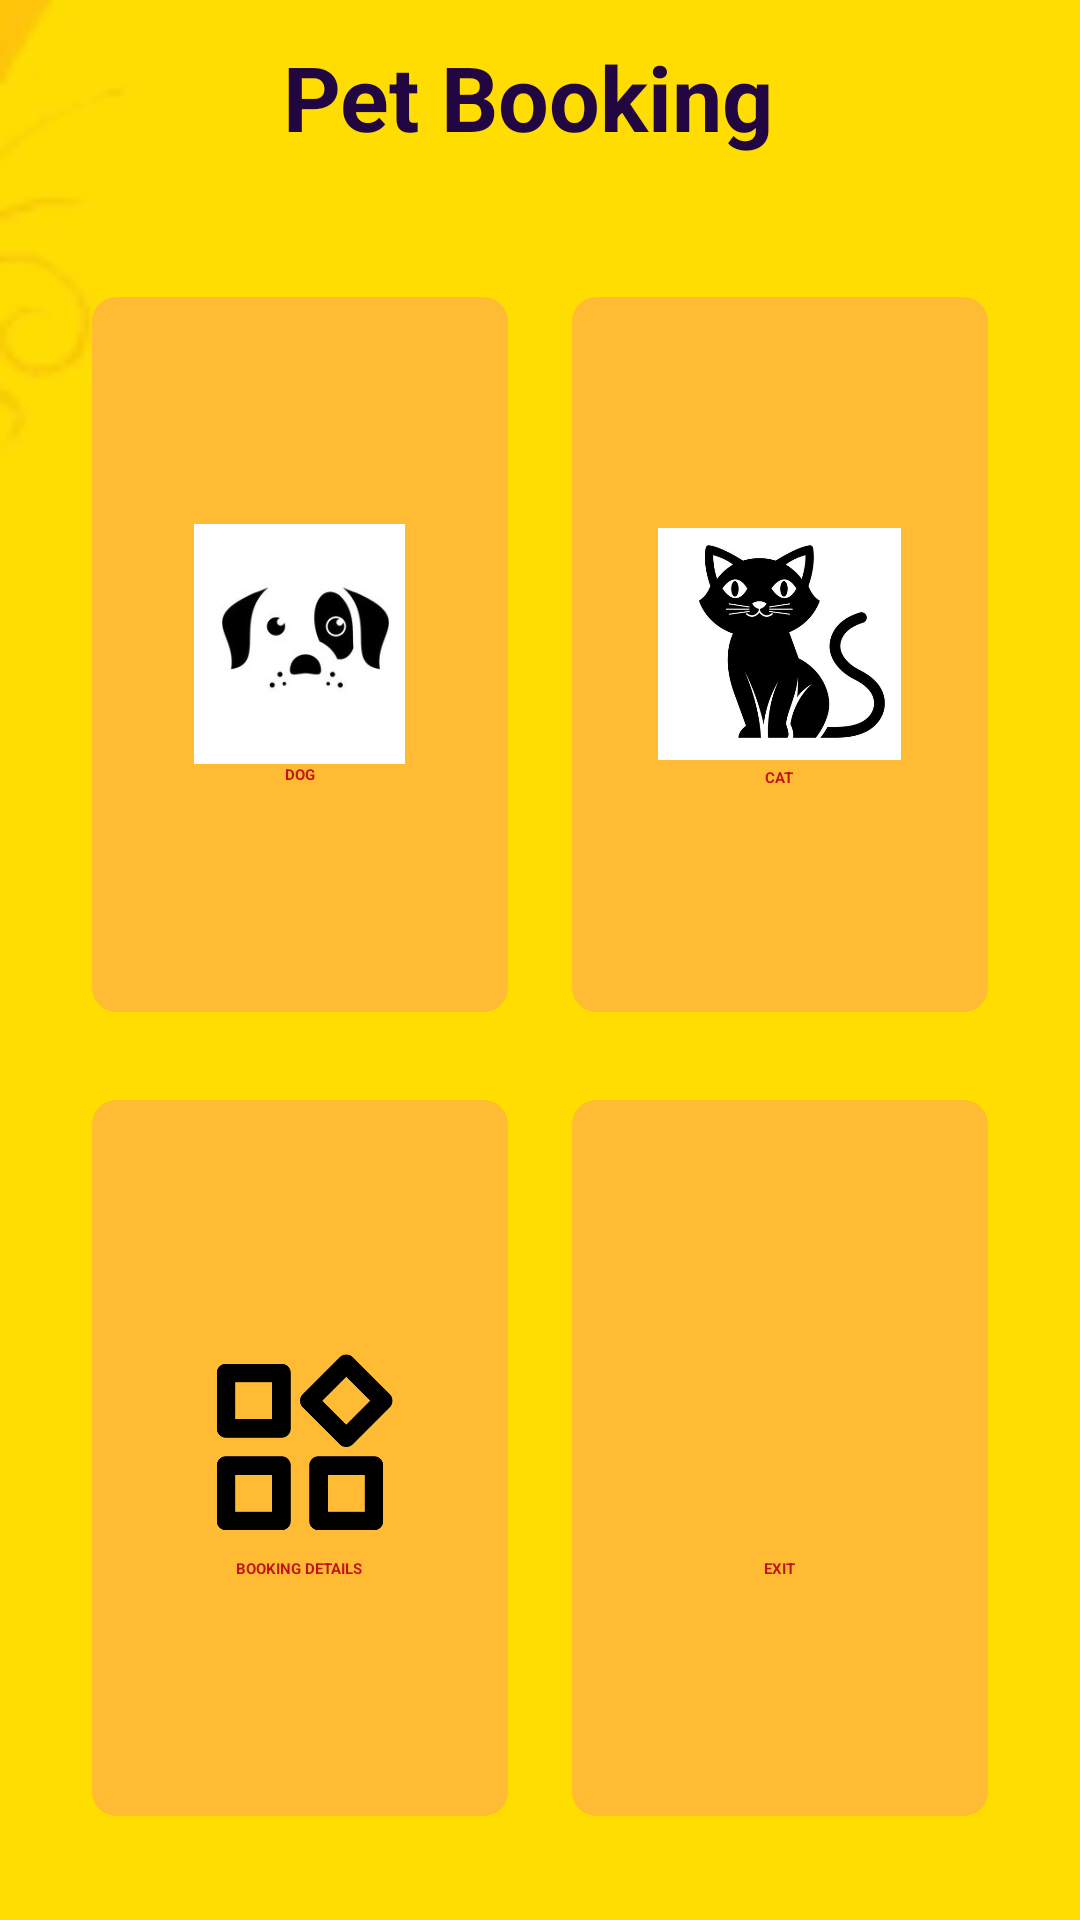

Icon click points for this 1080*1920 phone screenshot, format (x,y):
widget: (305,1442)
